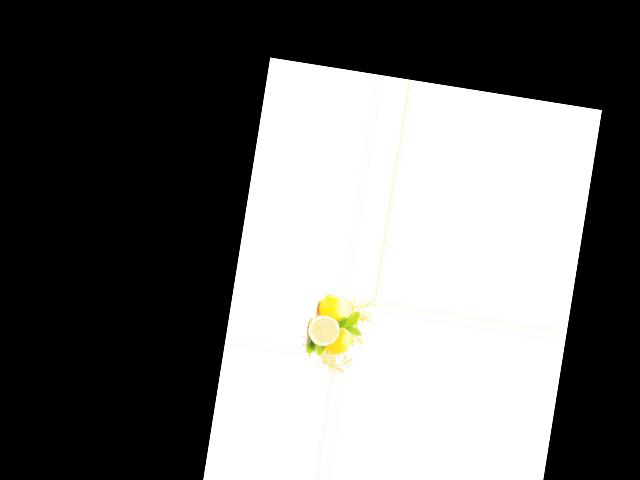lemon: (314, 294, 351, 328)
